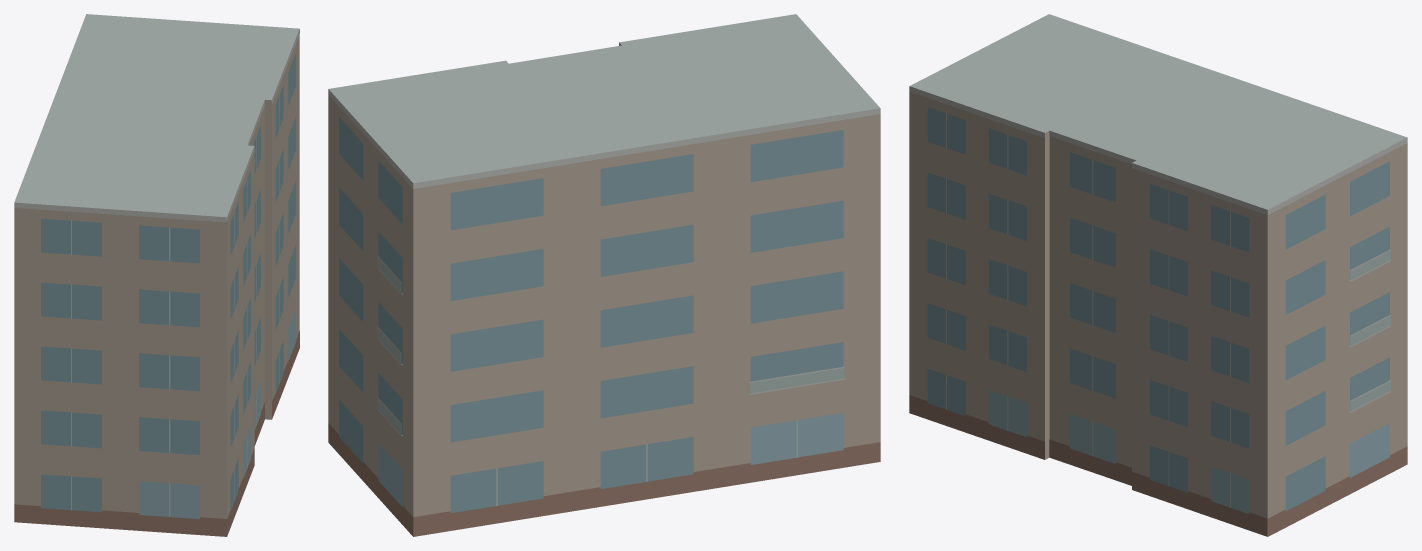
File: survey-upis-32931381.glb
3 views of the same model, side by side, from view 1: azimuth 30°, elevation 25°; view 2: azimuth 150°, elevation 25°; view 3: azimuth 270°, elevation 25° (orthographic). The views are drawn at different scales.
Visible parts, largest first — view 1: survey-upis-32931381.tmp; view 2: survey-upis-32931381.tmp; view 3: survey-upis-32931381.tmp.
Part boxes in pixels (<box>): survey-upis-32931381.tmp: <box>14,14,299,536</box>; survey-upis-32931381.tmp: <box>328,14,880,536</box>; survey-upis-32931381.tmp: <box>909,14,1407,536</box>.
Bounding box in the file's own units: 19.21 × 14.95 × 20.65.
